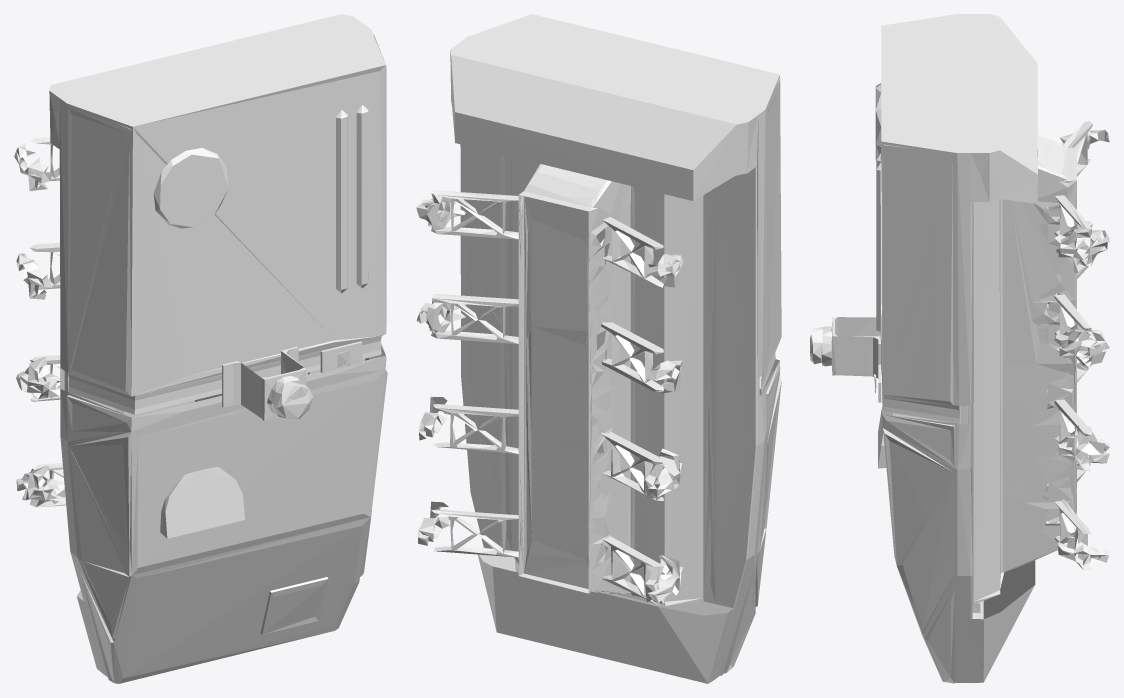
The model's file is TrueECV.dae.
3 renders of one model, left to right at view 1: azimuth 30°, elevation 25°; view 2: azimuth 150°, elevation 25°; view 3: azimuth 270°, elevation 25°, orthographic. The views are drawn at different scales.
Visible parts, largest first — view 1: node; view 2: node; view 3: node.
Boxes of the visible parts, <box> form: node: <box>14,14,387,683</box>; node: <box>416,14,781,683</box>; node: <box>810,14,1109,683</box>.
Size of the model in its own units: 0.5453 by 1 by 0.4912.
